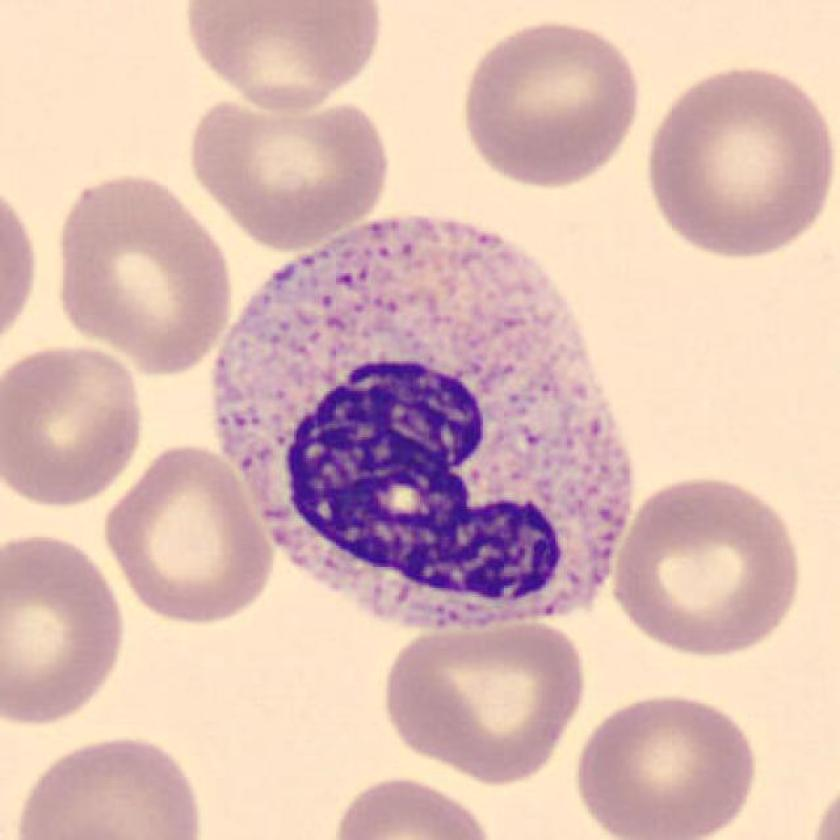neutrophil: (210, 219, 632, 622)
